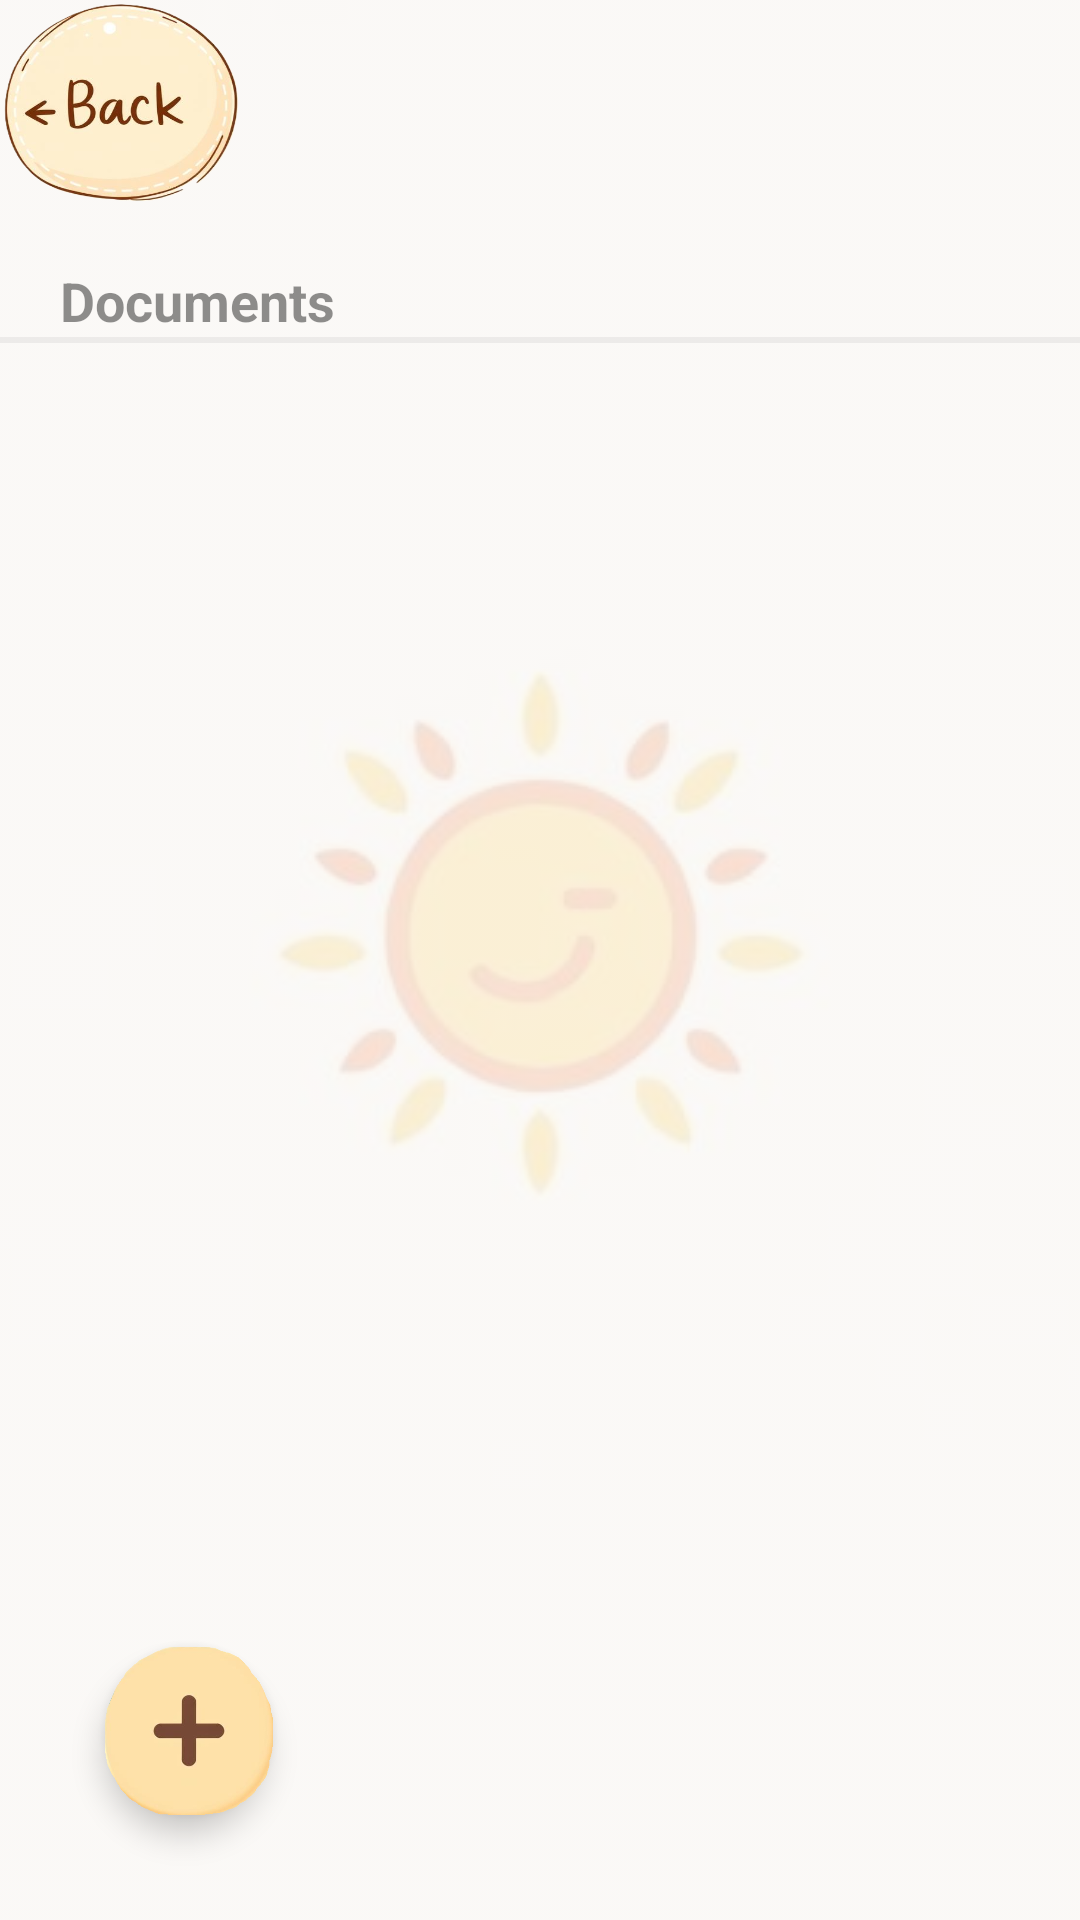

Named icons in this screenshot (1080*1920) and their bounding boxes, (x1, y1, x2, y2):
Add items: (105, 1647, 273, 1815)
